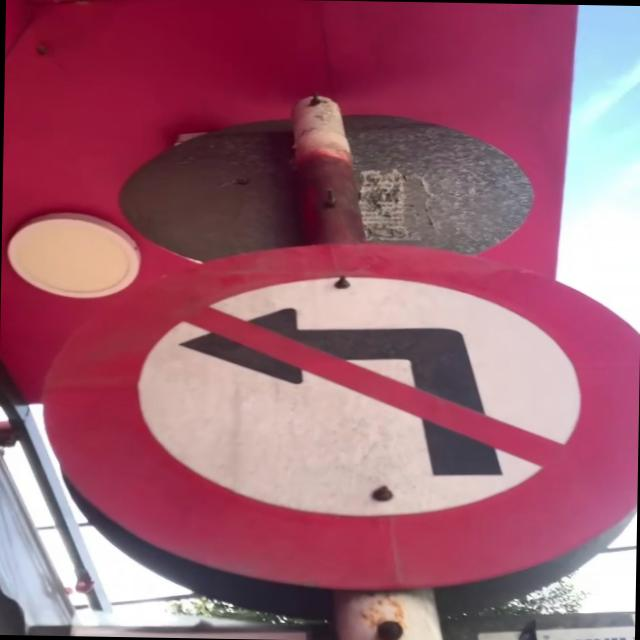Cam_Re_Trai: (39, 239, 640, 598)
